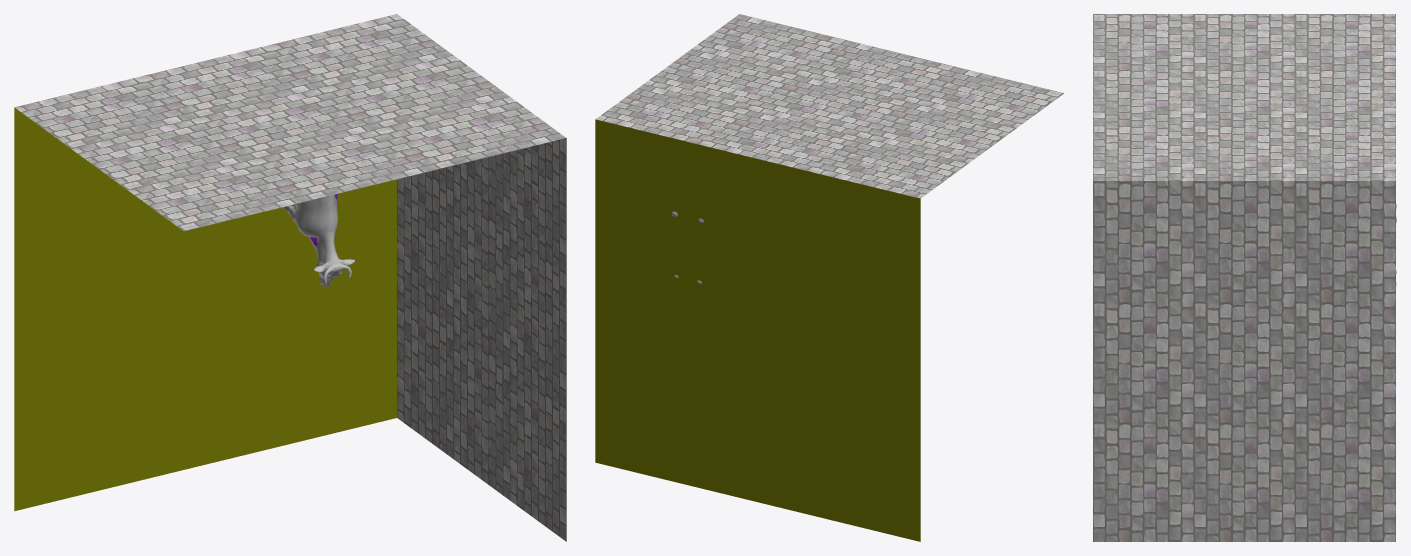
Rendered from cow.obj.
3 views of the same model, side by side, from view 1: azimuth 30°, elevation 25°; view 2: azimuth 150°, elevation 25°; view 3: azimuth 270°, elevation 25° (orthographic). The views are drawn at different scales.
Visible parts, largest first — view 1: Room_Box, default; view 2: Room_Box; view 3: Room_Box.
Boxes of the visible parts, <box> form: Room_Box: <box>14,14,566,541</box>; default: <box>273,194,354,286</box>; Room_Box: <box>595,14,1063,541</box>; Room_Box: <box>1093,14,1395,541</box>.
Size of the model in its own units: 16.84 by 16.99 by 12.95.
Materials: 4 (1 with a texture image).
